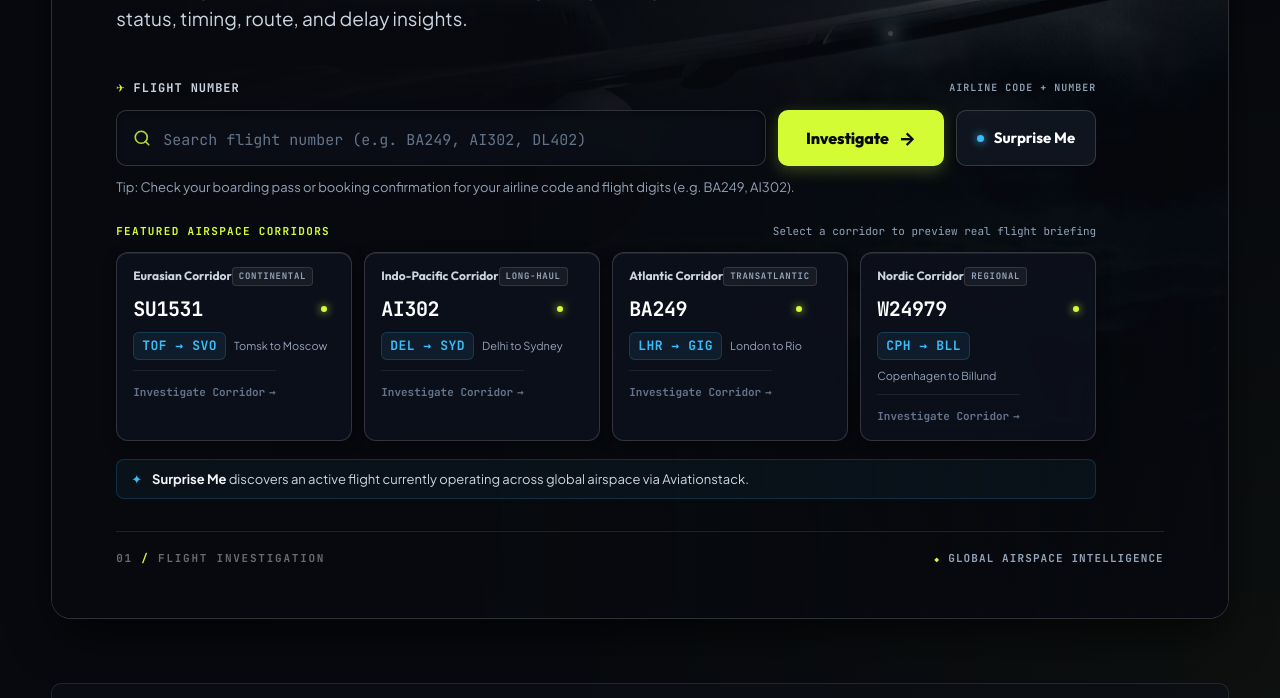
Test: Flight Detective app › investigates a flight when clicking a quick route chip
(page scrolled)
Click the button "BA249" at (730, 346), box [612, 252, 848, 441]
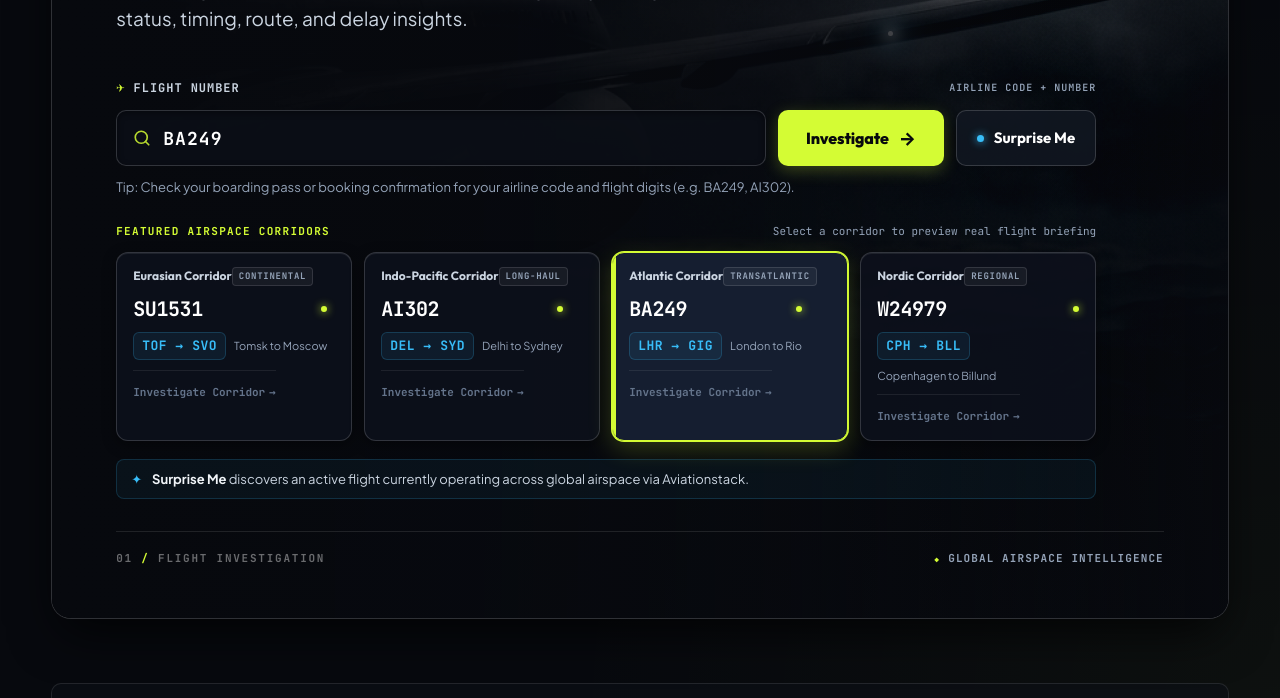
Expected: the field labelled "Flight number" holds "BA249", [163, 111, 749, 165]
